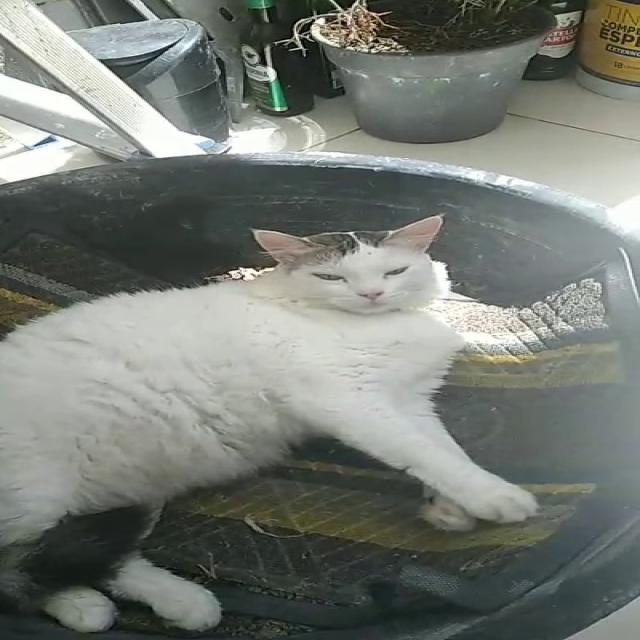Simba: (0, 191, 598, 639)
